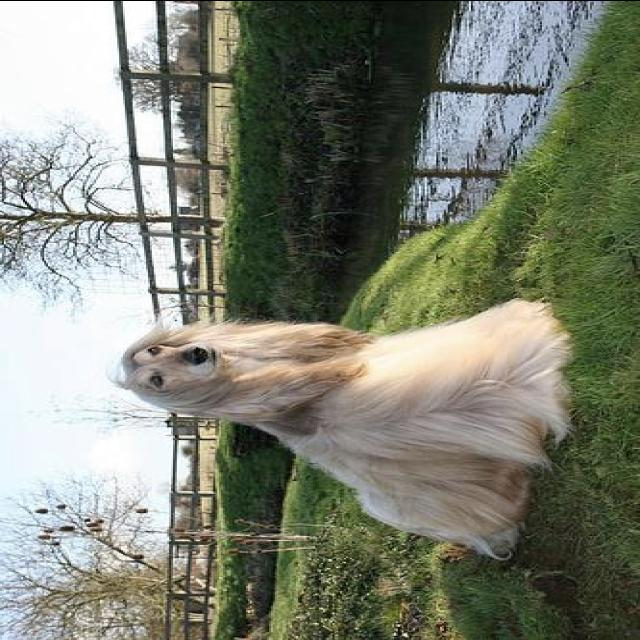afghan_hound: (92, 293, 582, 563)
